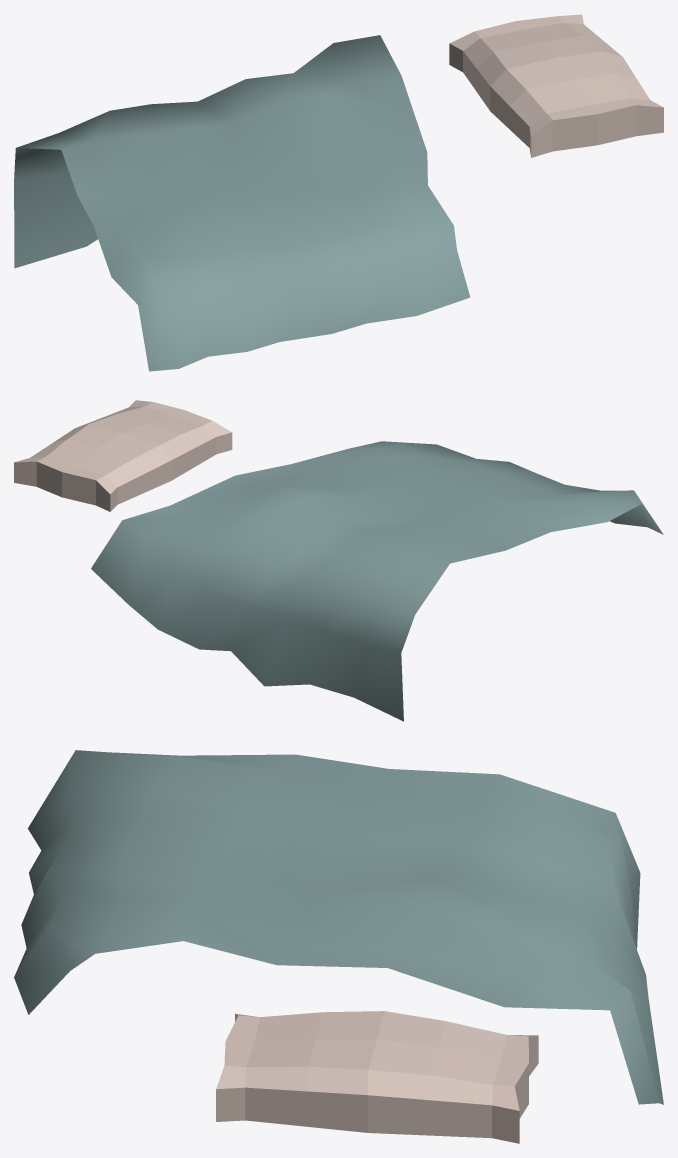
The model's file is bea_covers.fbx.
The picture shows the model from 3 angles, top to bottom: view 1: azimuth 30°, elevation 25°; view 2: azimuth 150°, elevation 25°; view 3: azimuth 270°, elevation 25°; orthographic projection. The views are drawn at different scales.
Parts seen in each view (by area): view 1: covers; view 2: covers; view 3: covers.
Part boxes in pixels (bbox=[...]): covers: bbox=[14, 14, 663, 371]; covers: bbox=[14, 400, 663, 721]; covers: bbox=[14, 750, 663, 1143].
Bounding box in the file's own units: 528 × 144 × 368.
